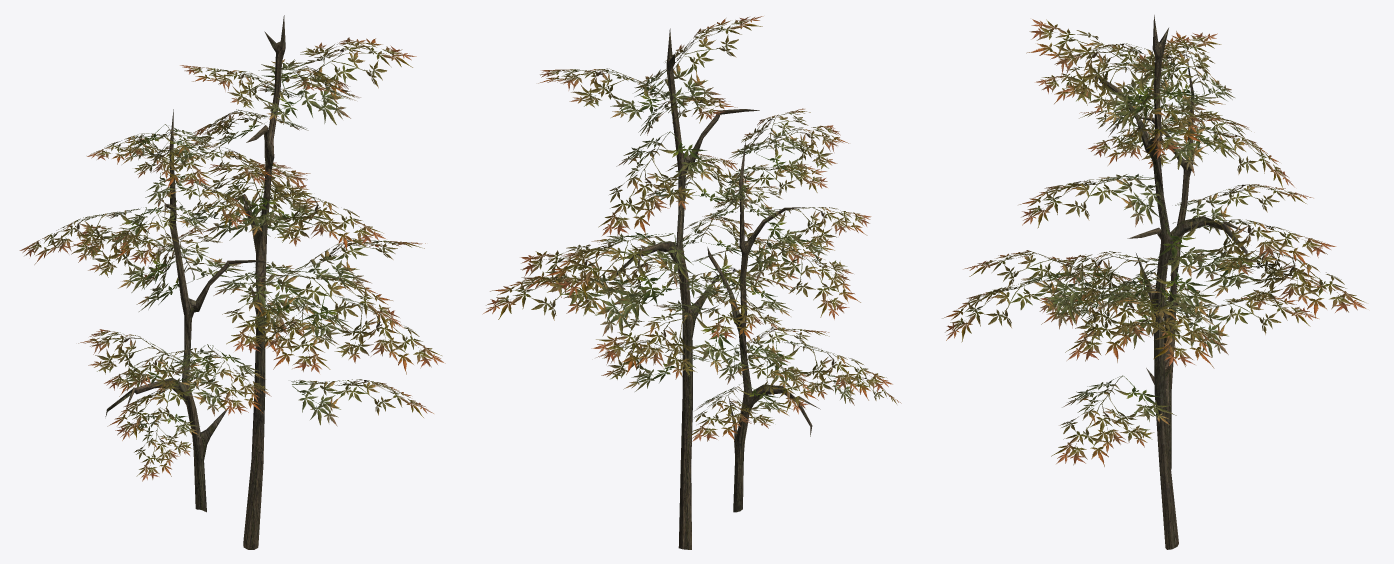
Rendered from bg_anh_foliage_maplebush01b_sm_ysi.FBX.
The picture shows the model from 3 angles, left to right: view 1: azimuth 30°, elevation 25°; view 2: azimuth 150°, elevation 25°; view 3: azimuth 270°, elevation 25°; orthographic projection. The views are drawn at different scales.
Parts seen in each view (by area): view 1: bg_anh_foliage_maplebush01b_sm_ysi; view 2: bg_anh_foliage_maplebush01b_sm_ysi; view 3: bg_anh_foliage_maplebush01b_sm_ysi.
Boxes of the visible parts, <box> form: bg_anh_foliage_maplebush01b_sm_ysi: <box>19,15,445,549</box>; bg_anh_foliage_maplebush01b_sm_ysi: <box>482,16,901,549</box>; bg_anh_foliage_maplebush01b_sm_ysi: <box>942,15,1366,549</box>.
Bounding box in the file's own units: 138 × 182 × 135.
